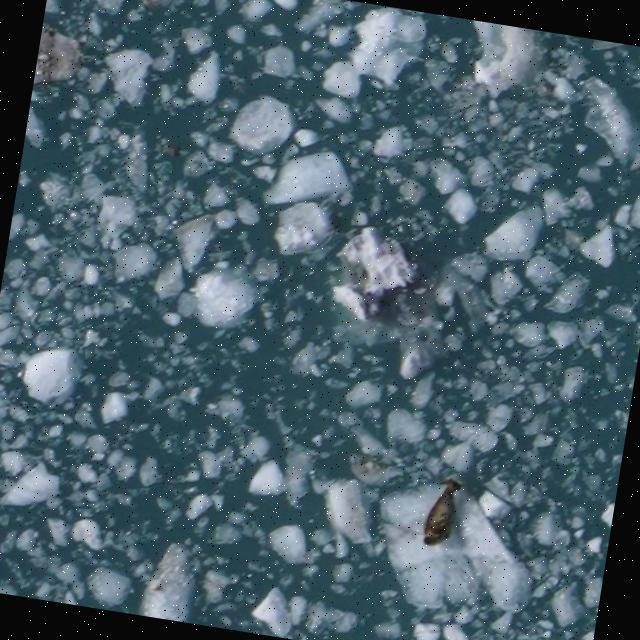seal: (422, 479, 461, 549)
